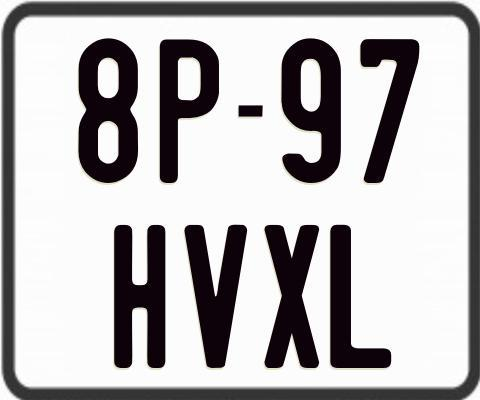7: (358, 36, 417, 182)
8: (78, 36, 139, 184)
9: (280, 38, 344, 188)
H: (113, 225, 165, 368)
L: (330, 224, 393, 370)
P: (157, 37, 220, 187)
V: (183, 222, 248, 366)
X: (264, 225, 325, 373)
